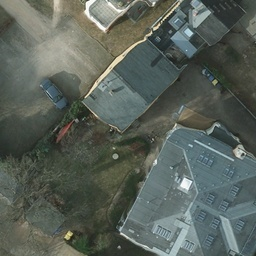car: (39, 77, 69, 109)
